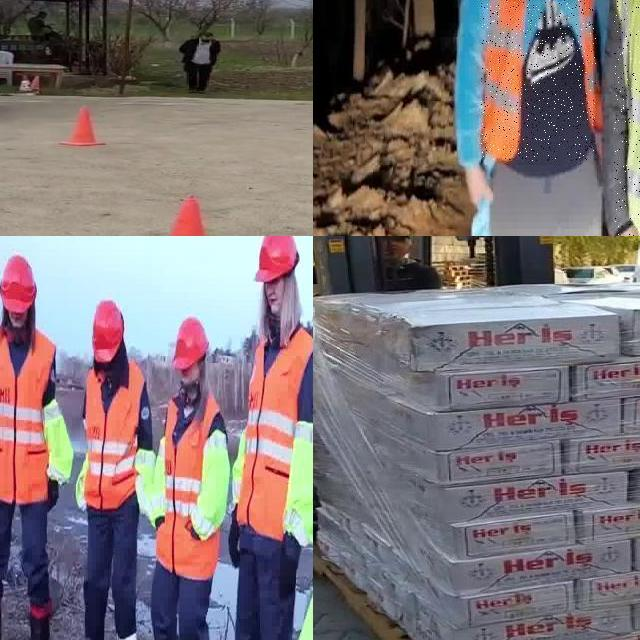HELMET: (0, 256, 38, 316), (256, 236, 301, 284), (91, 301, 124, 366), (173, 316, 211, 371)
VEST: (481, 0, 596, 161), (236, 325, 313, 543), (154, 397, 220, 577), (0, 325, 57, 502), (84, 358, 146, 511), (198, 433, 230, 538), (292, 416, 313, 548), (48, 388, 72, 490), (302, 516, 313, 640), (230, 429, 247, 506), (136, 446, 154, 514), (156, 429, 167, 522), (76, 458, 88, 514)
